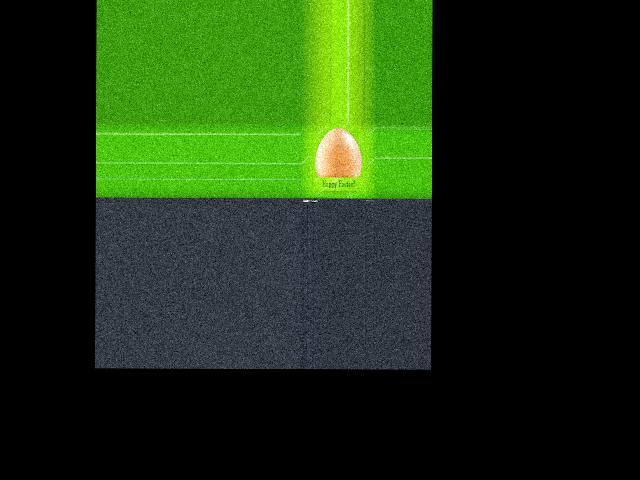egg: (315, 127, 362, 177)
